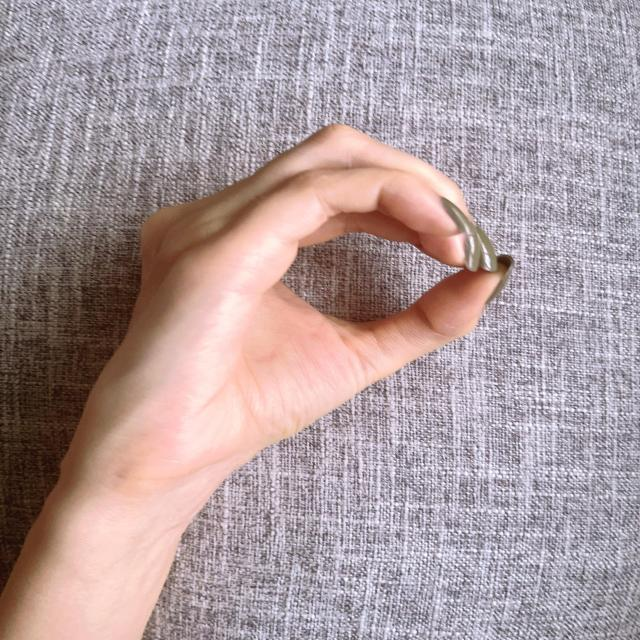O: (115, 121, 517, 464)
